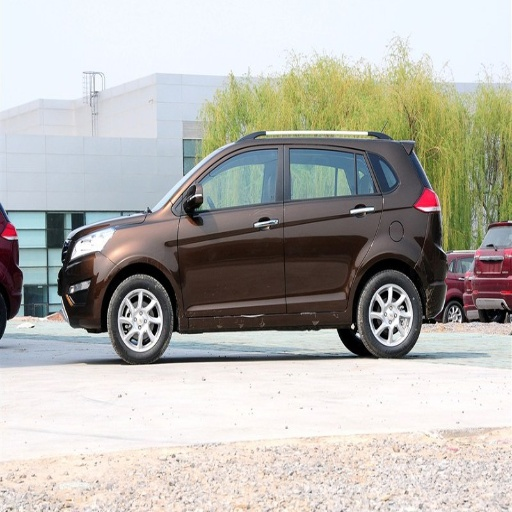back_left_door: (286, 143, 379, 313)
front_left_door: (177, 142, 286, 321)
